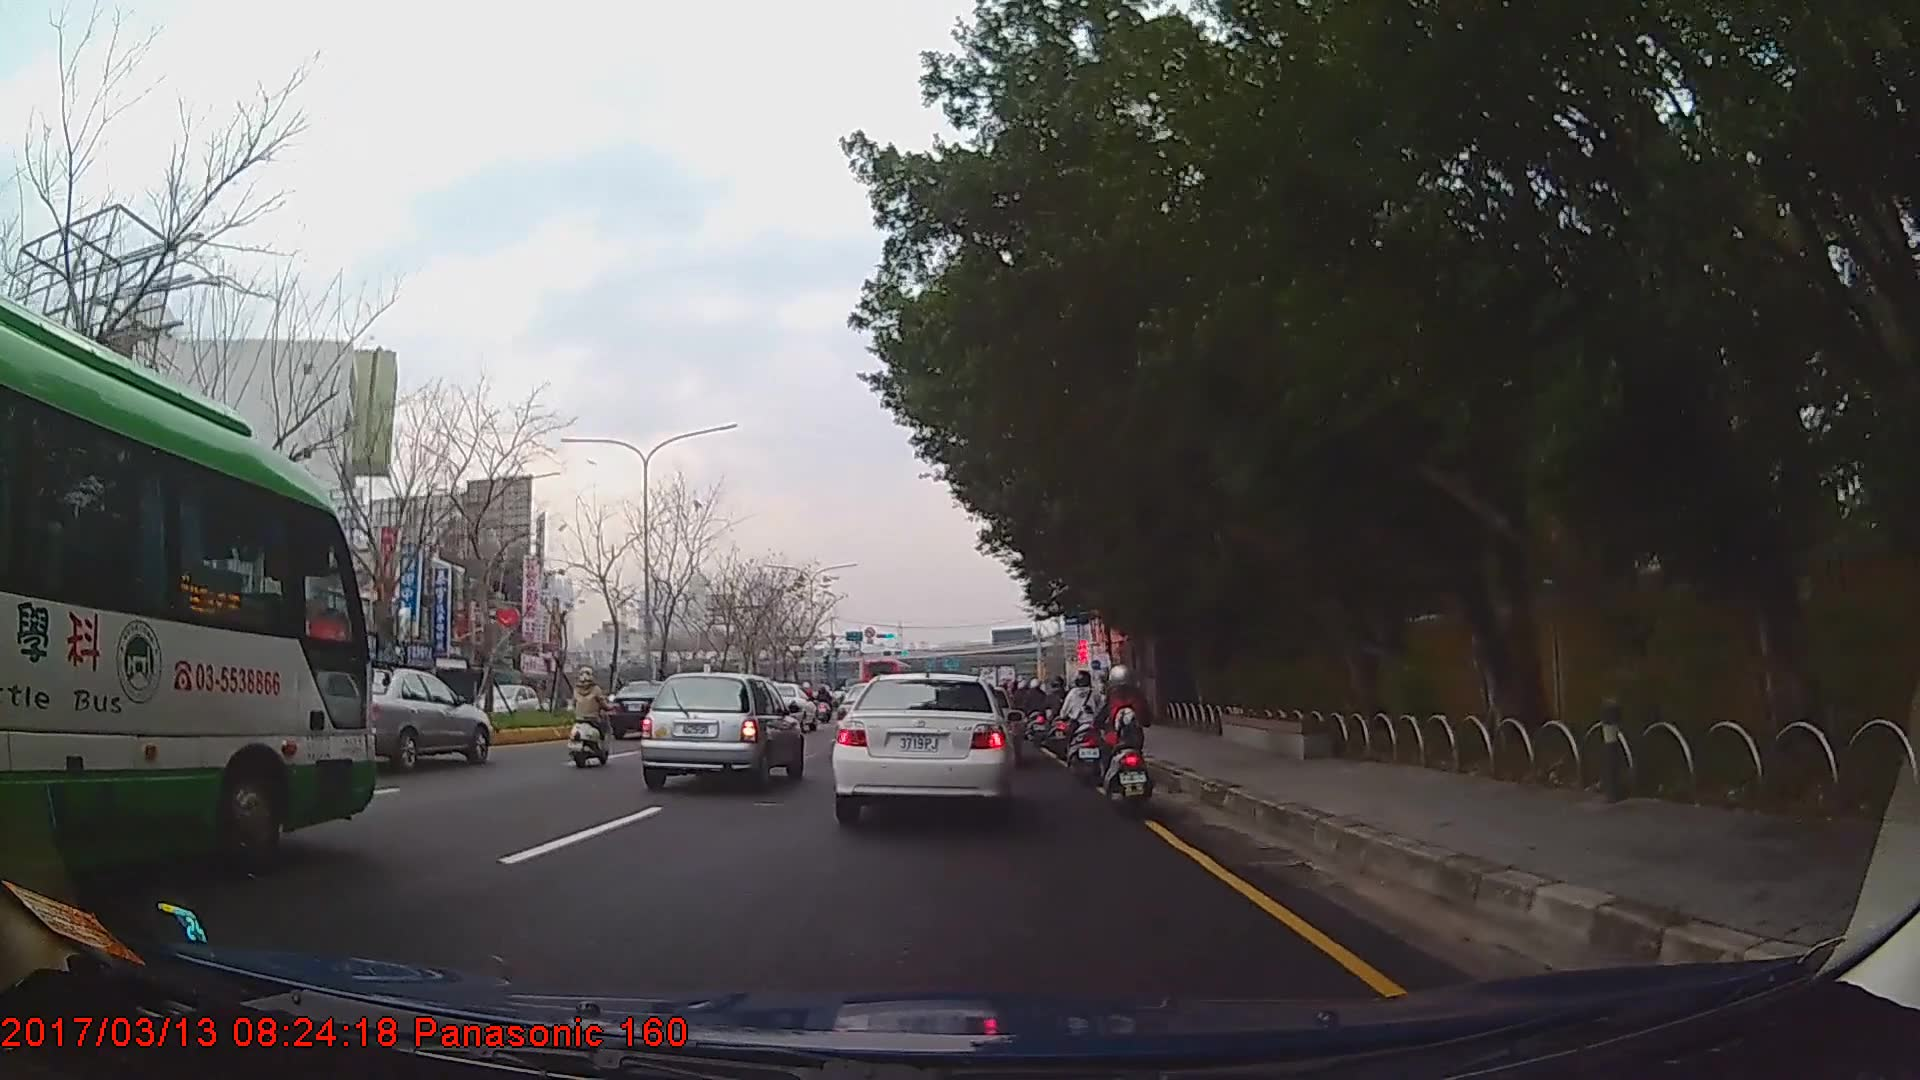rider: (1095, 660, 1157, 816), (1062, 671, 1108, 785), (574, 666, 617, 767), (1045, 678, 1072, 751)
vehicle: (0, 285, 379, 888), (829, 670, 1014, 826), (639, 668, 802, 790), (331, 665, 491, 771), (606, 676, 691, 740), (472, 677, 542, 720)
